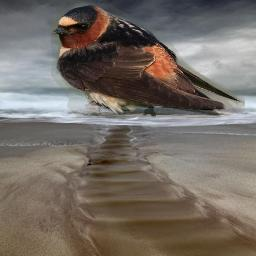Swallow: (51, 3, 245, 118)
